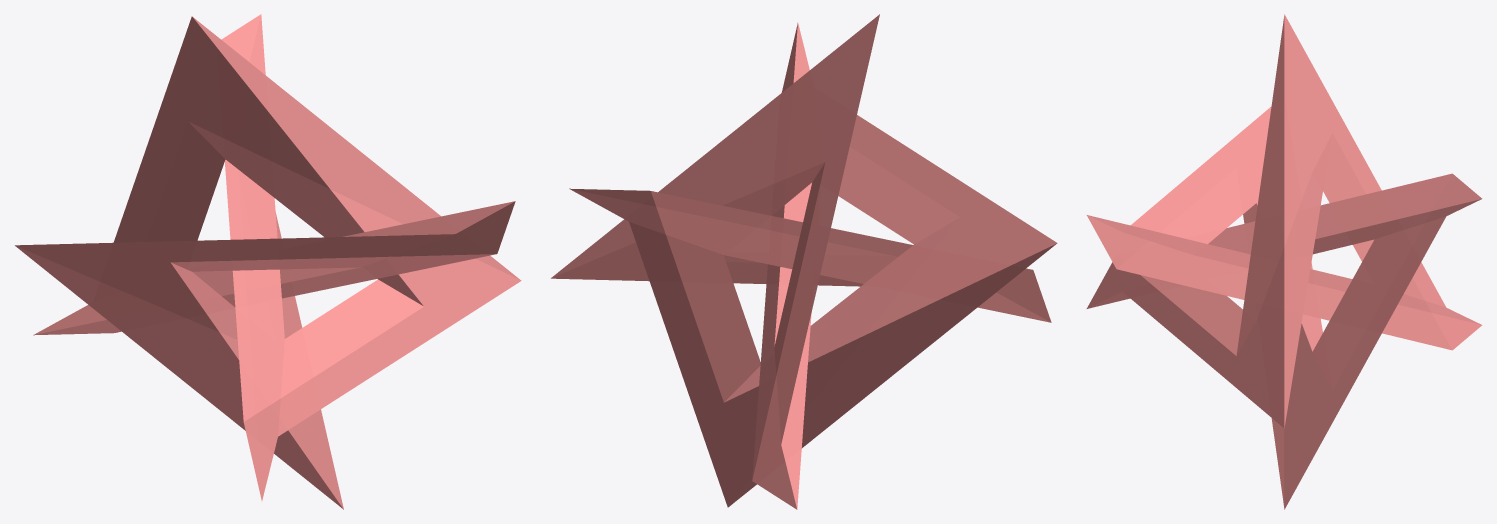
File: HexagonalToroid_N.obj
3 views of the same model, side by side, from view 1: azimuth 30°, elevation 25°; view 2: azimuth 150°, elevation 25°; view 3: azimuth 270°, elevation 25° (orthographic). The views are drawn at different scales.
Bounding box in the file's own units: 24 × 24 × 19.8.
